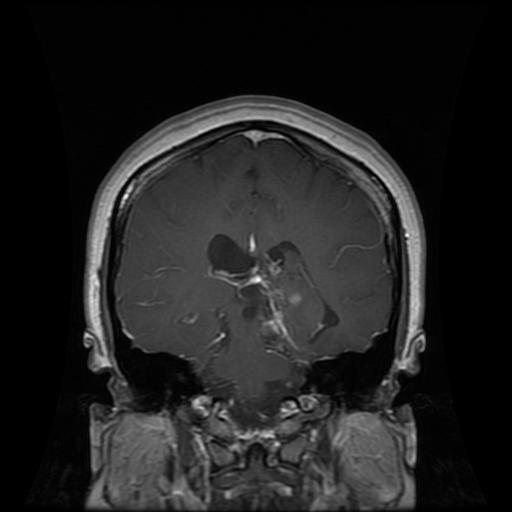Gliomia_tumour: (206, 230, 344, 360)
